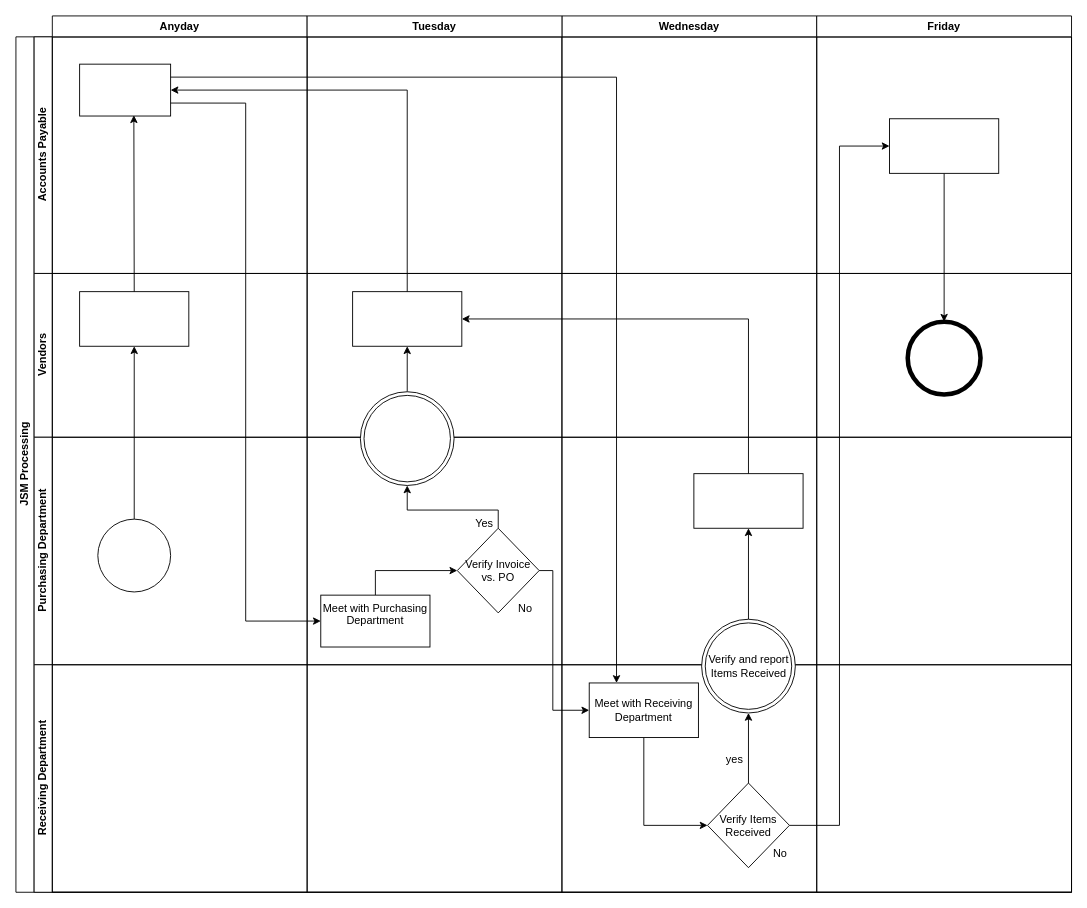
The diagram is 1087 pixels wide and 908 high, and some of its shapes have lost their labels. The centre of each missing label's shape, as x and y in pixels:
Contact Vendor to Reconcile Shipment Discrepancy: (x=748, y=500)
Creates and Sends Invoice: (x=134, y=318)
Processes Invoice and Issues Payments: (x=944, y=145)
Receive and Contact Vendor to Reconcile Discrepancy: (x=406, y=438)
Receives and Sort Invoices: (x=125, y=89)
Receives Payments: (x=943, y=357)
Resends Corrected Invoice: (x=407, y=318)
